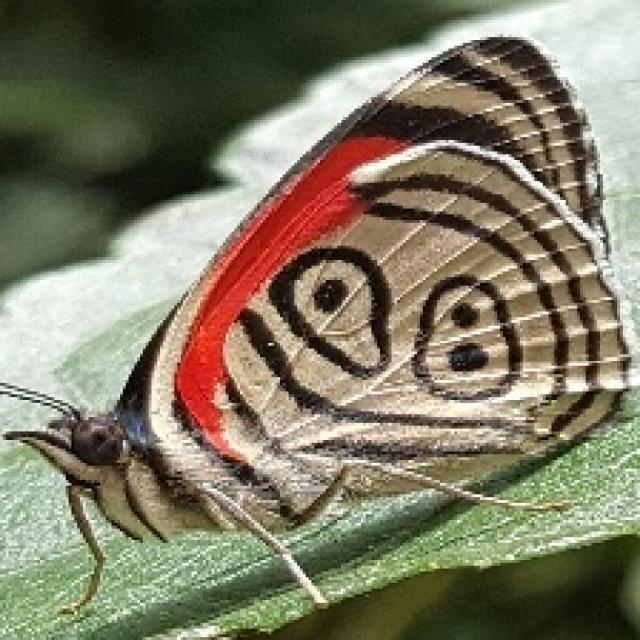butterfly: (0, 31, 634, 619)
